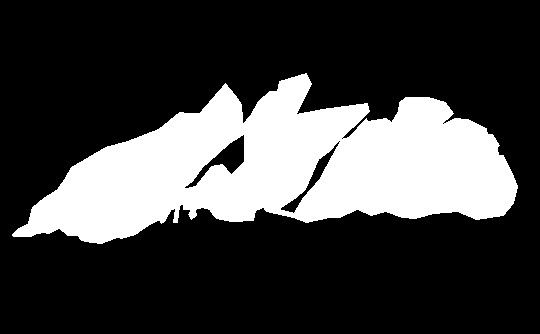Fire: (296, 109, 479, 215), (19, 127, 191, 236), (224, 84, 314, 196)
